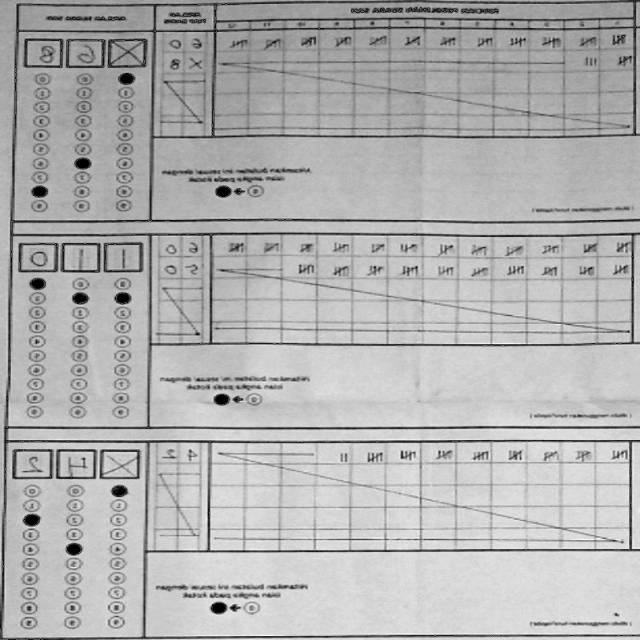Suara: (10, 445, 146, 478), (19, 237, 147, 270), (27, 34, 153, 67)
